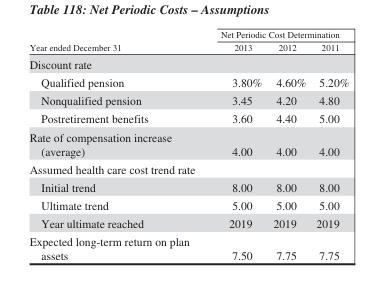table: (28, 29, 348, 261)
table column: (28, 29, 204, 261), (204, 29, 266, 261), (266, 29, 310, 261), (310, 29, 348, 261)
table column header: (28, 29, 348, 54)
table projected row header: (28, 54, 348, 73), (28, 159, 348, 177)
table row: (28, 127, 348, 159), (28, 232, 348, 261), (28, 54, 348, 73), (28, 195, 348, 214), (28, 73, 348, 91), (28, 91, 348, 109), (28, 109, 348, 127), (28, 159, 348, 177), (28, 177, 348, 195), (28, 214, 348, 232), (28, 40, 348, 54), (28, 29, 348, 40)
table spanning cell: (28, 29, 204, 54), (204, 29, 348, 40)
